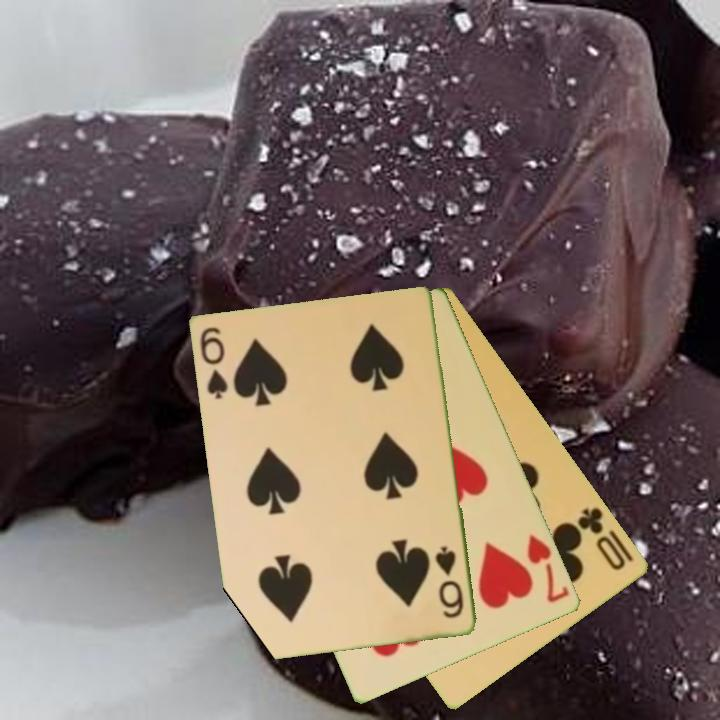10c: (574, 504, 629, 574)
6s: (432, 543, 467, 622), (197, 323, 231, 403)
7h: (524, 531, 573, 606)
